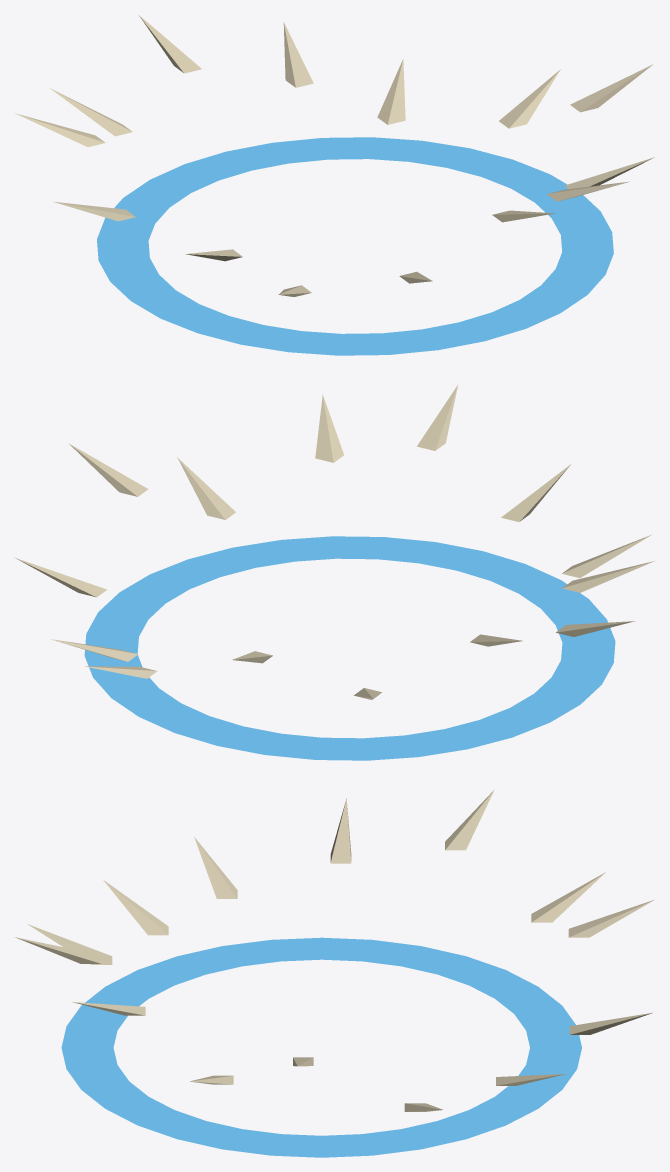
The model's file is corpse_burst.glb.
The picture shows the model from 3 angles, top to bottom: view 1: azimuth 30°, elevation 25°; view 2: azimuth 150°, elevation 25°; view 3: azimuth 270°, elevation 25°; orthographic projection. The views are drawn at different scales.
Visible parts, largest first — view 1: corpse_burst; view 2: corpse_burst; view 3: corpse_burst.
Boxes of the visible parts, <box> form: corpse_burst: <box>15,15,654,355</box>; corpse_burst: <box>14,384,654,760</box>; corpse_burst: <box>14,790,654,1157</box>.
Bounding box in the file's own units: 2.57 × 0.5688 × 2.47.
Materials: 1 (1 with a texture image).
